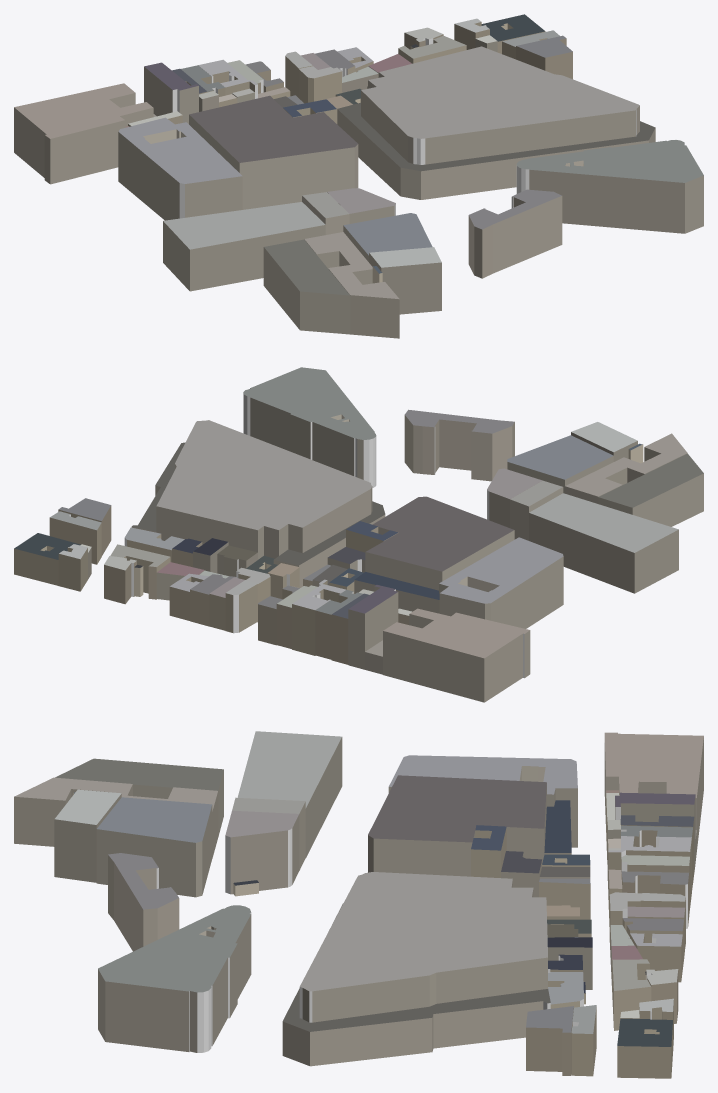
3 renders of one model, top to bottom at view 1: azimuth 30°, elevation 25°; view 2: azimuth 150°, elevation 25°; view 3: azimuth 270°, elevation 25°, orthographic. The views are drawn at different scales.
Parts seen in each view (by area): view 1: tuile; view 2: tuile; view 3: tuile.
Boxes of the visible parts, x1,y1,x2,y2 form: tuile: (14,14,703,338); tuile: (14,367,703,702); tuile: (14,731,703,1078).
Bounding box in the file's own units: 284 × 32.29 × 280.
